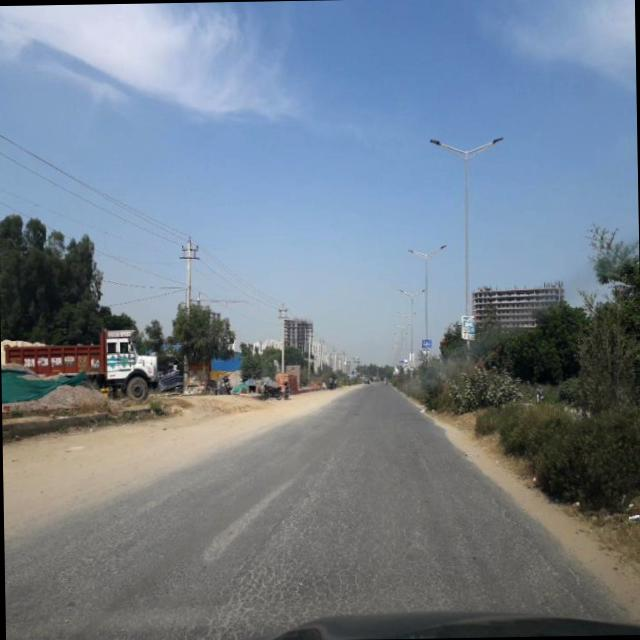crack: (7, 491, 608, 640), (484, 482, 594, 622)
